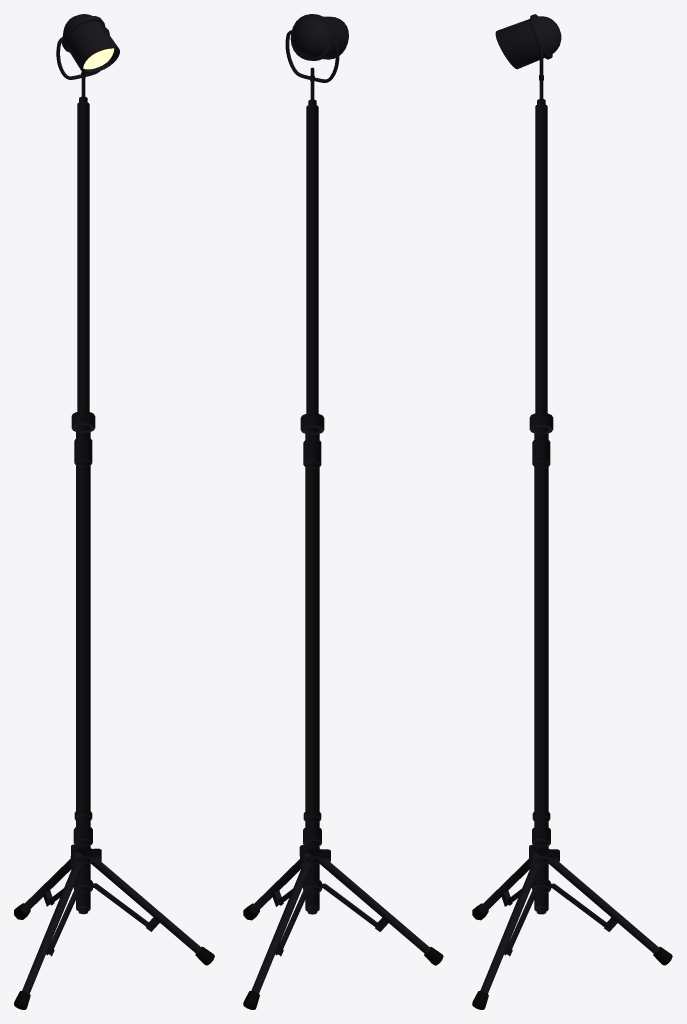
Rendered from LVR_Spotlight.fbx.
3 renders of one model, left to right at view 1: azimuth 30°, elevation 25°; view 2: azimuth 150°, elevation 25°; view 3: azimuth 270°, elevation 25°, orthographic.
Visible parts, largest first — view 1: 01 - Spotlight pole, 01 - Spotlight supports, 01 - Spotlight; view 2: 01 - Spotlight pole, 01 - Spotlight supports, 01 - Spotlight; view 3: 01 - Spotlight pole, 01 - Spotlight supports, 01 - Spotlight.
Boxes of the visible parts, x1,y1,x2,y2 form: 01 - Spotlight pole: (56, 27, 109, 914); 01 - Spotlight supports: (14, 844, 214, 1009); 01 - Spotlight: (61, 14, 119, 73); 01 - Spotlight pole: (285, 30, 339, 914); 01 - Spotlight supports: (243, 845, 443, 1009); 01 - Spotlight: (290, 14, 348, 60); 01 - Spotlight pole: (529, 45, 553, 914); 01 - Spotlight supports: (472, 844, 672, 1009); 01 - Spotlight: (495, 14, 561, 69).
Size of the model in its own units: 231 by 1055 by 202.
